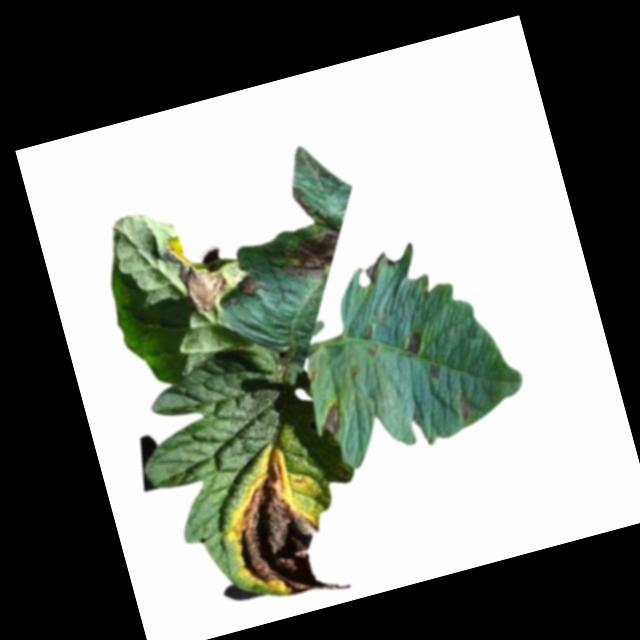Early_blight: (217, 436, 355, 616), (263, 175, 356, 293), (162, 222, 235, 321), (314, 399, 348, 439), (236, 270, 266, 301), (402, 330, 428, 359), (454, 389, 476, 423), (424, 359, 447, 382), (359, 327, 375, 343)
